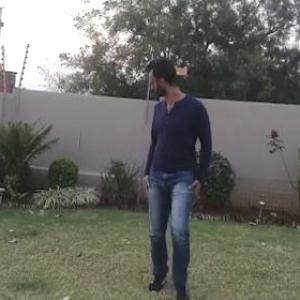follow: (130, 39, 218, 282)
